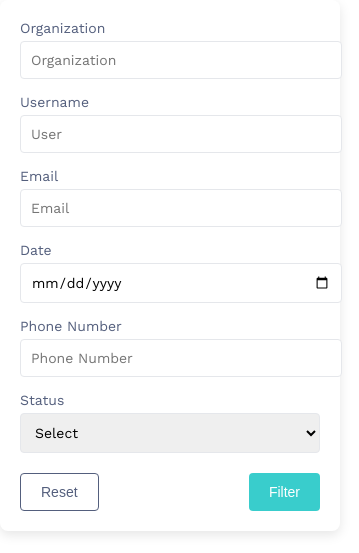
it: FilterPopup component › should reset all fields when reset button is clicked
The width and height of the screenshot is (359, 553).
In the field labelled "Username": (181, 134) left=20, top=115, right=342, bottom=153, type "John Doe"
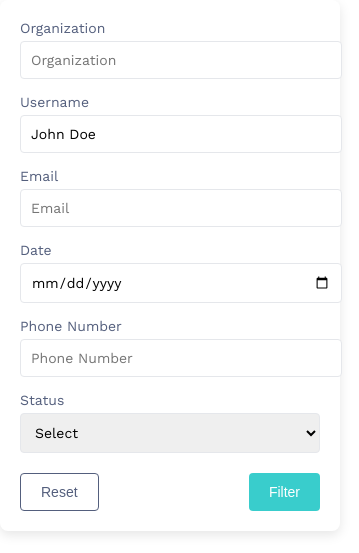
In the field labelled "Email": (181, 208) left=20, top=189, right=342, bottom=227, type "john@example.com"
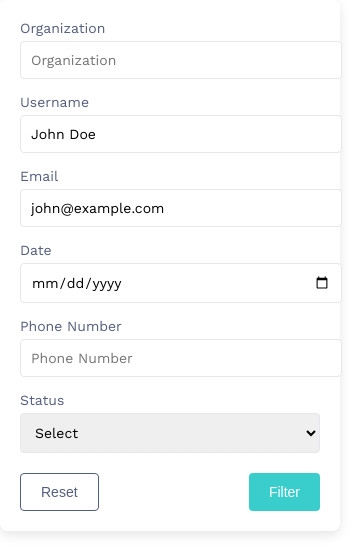
In the field labelled "Phone Number": (181, 358) left=20, top=339, right=342, bottom=377, type "1234567890"
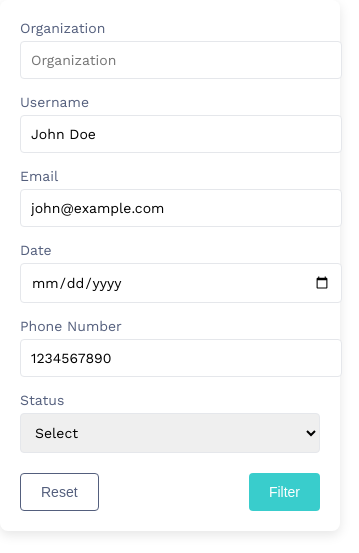
Select "Active" in the dropdown labelled "Status": (170, 433) left=20, top=413, right=320, bottom=453
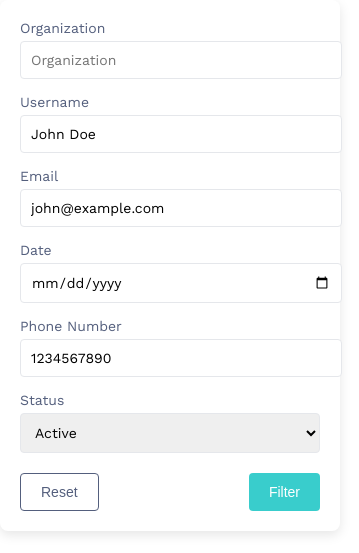
Click the button "Reset": (59, 492) left=20, top=473, right=99, bottom=511
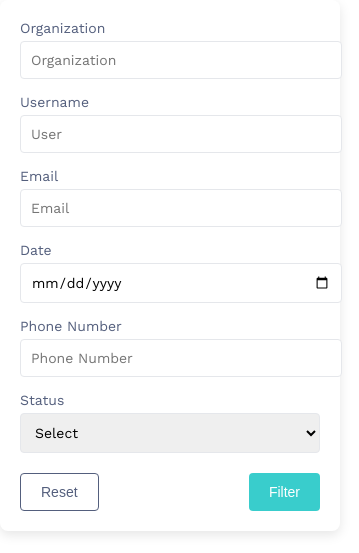
Result: the field labelled "Username" is empty at left=20, top=115, right=342, bottom=153
Result: the field labelled "Email" is empty at left=20, top=189, right=342, bottom=227
Result: the field labelled "Phone Number" is empty at left=20, top=339, right=342, bottom=377
